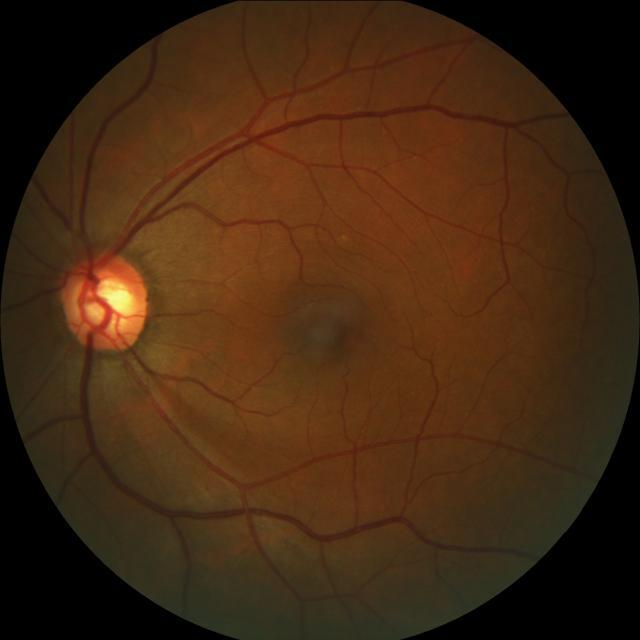OC: (83, 279, 133, 329)
OD: (60, 252, 146, 352)
